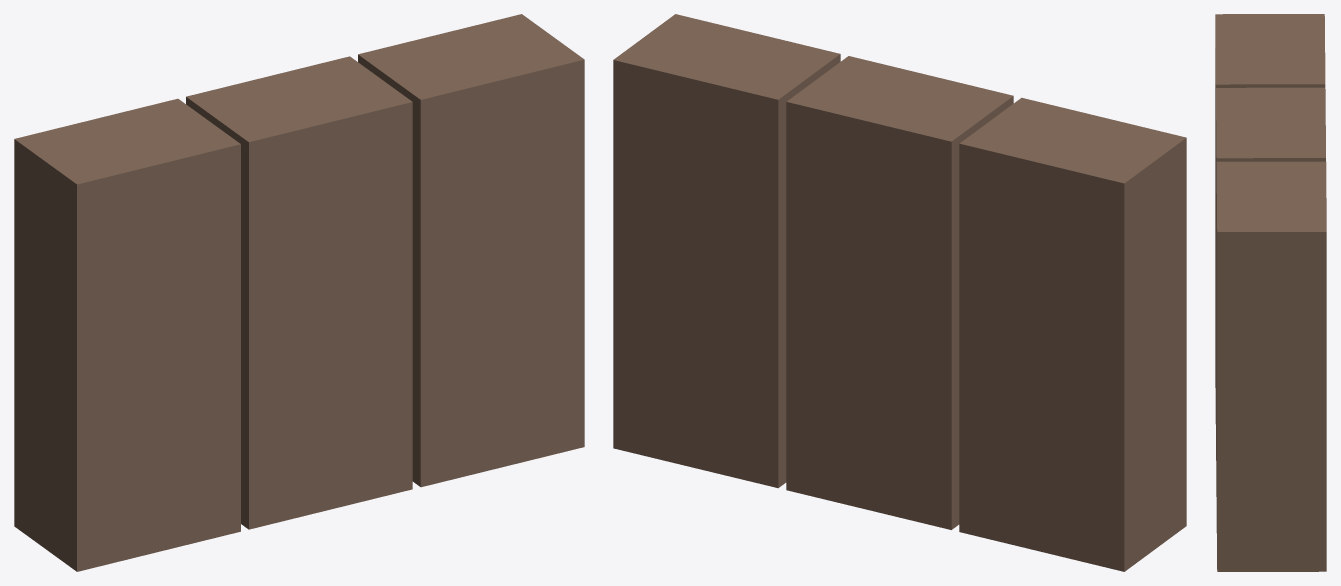
The model's file is Large_StorageUnit.fbx.
The picture shows the model from 3 angles, left to right: view 1: azimuth 30°, elevation 25°; view 2: azimuth 150°, elevation 25°; view 3: azimuth 270°, elevation 25°; orthographic projection. The views are drawn at different scales.
Visible parts, largest first — view 1: Large_StorageUnit; view 2: Large_StorageUnit; view 3: Large_StorageUnit.
Boxes of the visible parts, x1=… form: Large_StorageUnit: x1=14, y1=14, x2=584, y2=571; Large_StorageUnit: x1=613, y1=14, x2=1186, y2=571; Large_StorageUnit: x1=1215, y1=14, x2=1326, y2=571.
Size of the model in its own units: 160 by 116 by 34.53.
